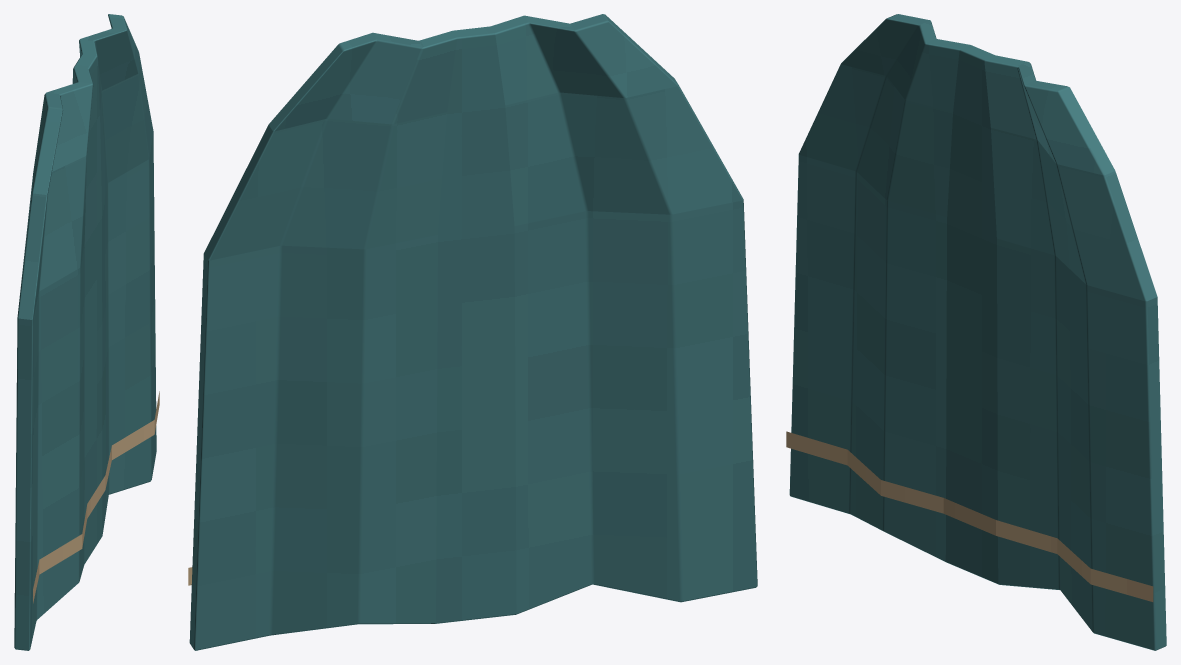
Rendered from TealHandTowel.glb.
The picture shows the model from 3 angles, left to right: view 1: azimuth 30°, elevation 25°; view 2: azimuth 150°, elevation 25°; view 3: azimuth 270°, elevation 25°; orthographic projection. The views are drawn at different scales.
Visible parts, largest first — view 1: TealHandTowel.Hanging-cloth, TealHandTowel.Woven-hem; view 2: TealHandTowel.Hanging-cloth; view 3: TealHandTowel.Hanging-cloth, TealHandTowel.Woven-hem.
Part boxes in pixels (x1=…): TealHandTowel.Hanging-cloth: x1=14, y1=14, x2=156, y2=650; TealHandTowel.Woven-hem: x1=33, y1=391, x2=159, y2=603; TealHandTowel.Hanging-cloth: x1=189, y1=14, x2=757, y2=650; TealHandTowel.Hanging-cloth: x1=789, y1=14, x2=1166, y2=650; TealHandTowel.Woven-hem: x1=786, y1=431, x2=1153, y2=601.
Size of the model in its own units: 0.239 by 0.36 by 0.239.
2 materials, 2 textured.
